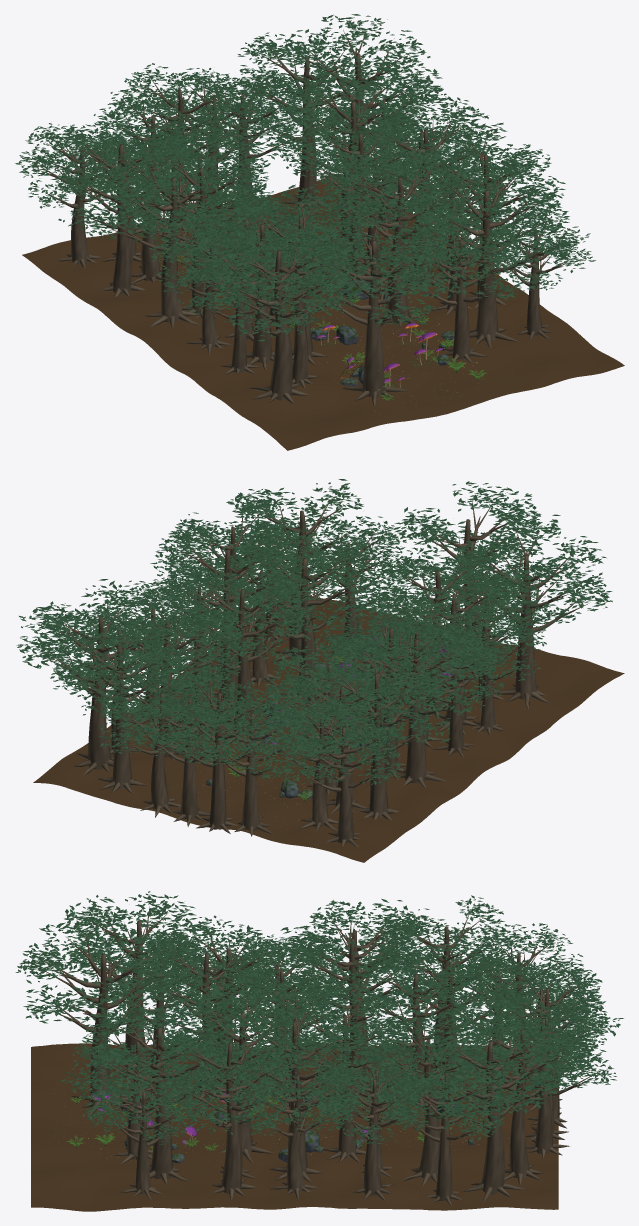
The model's file is enchanted-forest-soil-unified.glb.
3 views of the same model, one above another, from view 1: azimuth 30°, elevation 25°; view 2: azimuth 150°, elevation 25°; view 3: azimuth 270°, elevation 25° (orthographic).
Parts seen in each view (by area): view 1: Undulating_Forest_Floor.004, Ancient_Tree_Leaves.155, Ancient_Tree_Leaves.162, Ancient_Tree_Leaves.164, Ancient_Tree_Leaves.185, Ancient_Tree_Leaves.174, Ancient_Tree_Leaves.158, Ancient_Tree_Leaves.180, Ancient_Tree_Leaves.172, Ancient_Tree_Leaves.178, Ancient_Tree_Leaves.184, Ancient_Tree_Leaves.169 (+50 smaller); view 2: Undulating_Forest_Floor.004, Ancient_Tree_Leaves.162, Ancient_Tree_Leaves.185, Ancient_Tree_Leaves.155, Ancient_Tree_Leaves.174, Ancient_Tree_Leaves.158, Ancient_Tree_Leaves.178, Ancient_Tree_Leaves.164, Ancient_Tree_Leaves.172, Ancient_Tree_Leaves.184, Ancient_Tree_Leaves.160, Ancient_Tree_Leaves.180 (+51 smaller); view 3: Undulating_Forest_Floor.004, Ancient_Tree_Leaves.185, Ancient_Tree_Leaves.155, Ancient_Tree_Leaves.164, Ancient_Tree_Leaves.162, Ancient_Tree_Leaves.172, Ancient_Tree_Leaves.169, Ancient_Tree_Leaves.174, Ancient_Tree_Leaves.180, Ancient_Tree_Leaves.175, Ancient_Tree_Leaves.184, Ancient_Tree_Leaves.178 (+55 smaller).
Boxes of the visible parts, x1,y1,x2,y2 form: Undulating_Forest_Floor.004: (22,175,624,450); Ancient_Tree_Leaves.155: (283,204,448,325); Ancient_Tree_Leaves.162: (205,222,369,341); Ancient_Tree_Leaves.164: (414,150,579,270); Ancient_Tree_Leaves.185: (273,14,454,131); Ancient_Tree_Leaves.174: (76,138,248,247); Ancient_Tree_Leaves.158: (324,143,472,261); Ancient_Tree_Leaves.180: (258,63,426,169); Ancient_Tree_Leaves.172: (341,97,504,215); Ancient_Tree_Leaves.178: (48,118,197,232); Ancient_Tree_Leaves.184: (235,32,389,144); Ancient_Tree_Leaves.169: (407,122,566,231); Undulating_Forest_Floor.004: (33,595,624,862); Ancient_Tree_Leaves.162: (444,514,612,631); Ancient_Tree_Leaves.185: (16,579,176,704); Ancient_Tree_Leaves.155: (393,481,544,611); Ancient_Tree_Leaves.174: (333,611,497,715); Ancient_Tree_Leaves.158: (232,531,386,641); Ancient_Tree_Leaves.178: (305,642,450,748); Ancient_Tree_Leaves.164: (223,479,374,589); Ancient_Tree_Leaves.172: (152,523,311,642); Ancient_Tree_Leaves.184: (50,609,194,717); Ancient_Tree_Leaves.160: (172,565,320,673); Ancient_Tree_Leaves.180: (85,590,246,692); Undulating_Forest_Floor.004: (31,1043,558,1211); Ancient_Tree_Leaves.185: (421,1007,578,1133); Ancient_Tree_Leaves.155: (15,916,186,1032); Ancient_Tree_Leaves.164: (73,1000,242,1112); Ancient_Tree_Leaves.162: (64,891,216,1004); Ancient_Tree_Leaves.172: (220,987,374,1102); Ancient_Tree_Leaves.169: (157,1014,303,1134); Ancient_Tree_Leaves.174: (280,898,429,1010); Ancient_Tree_Leaves.180: (355,1008,501,1120); Ancient_Tree_Leaves.175: (279,907,433,1027); Ancient_Tree_Leaves.184: (448,1001,594,1111); Ancient_Tree_Leaves.178: (369,895,520,1008).
Bounding box in the file's own units: 26.95 × 10.62 × 34.75.
